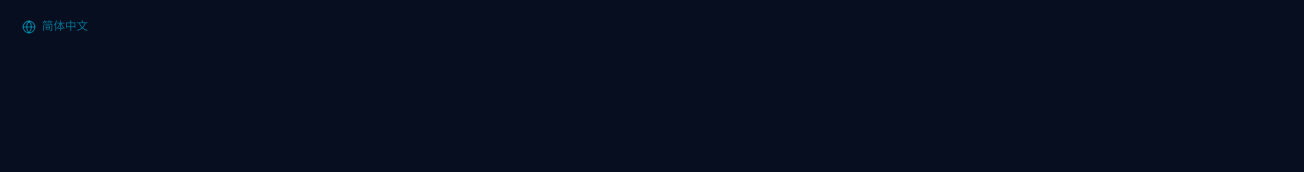
Test case: LanguageSwitcher › should close dropdown after selecting language
The image size is (1304, 172).
Click the button with test id "lang-trigger": [55, 27] box [12, 12, 98, 41]
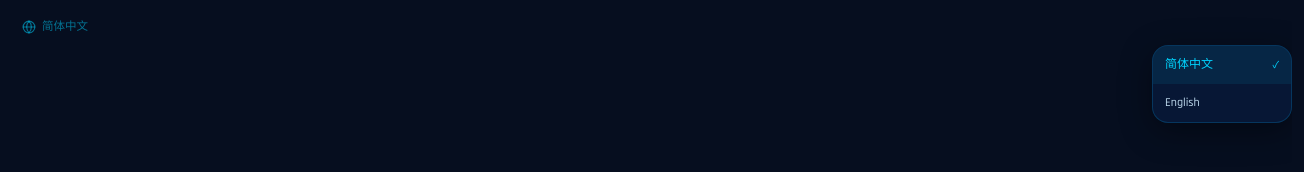
Click the button with test id "lang-en-US": [1222, 103] box [1153, 84, 1291, 122]
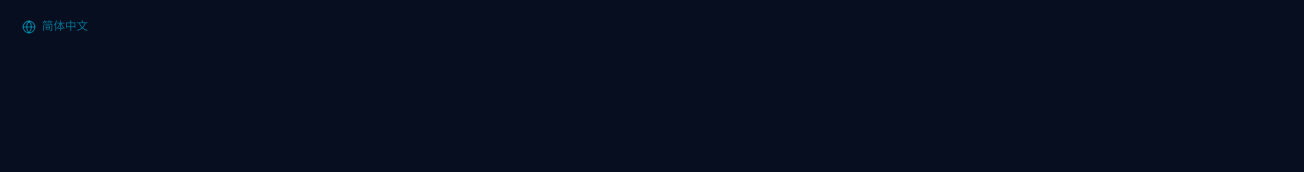
expect the element with test id "lang-dropdown" is gone: met
